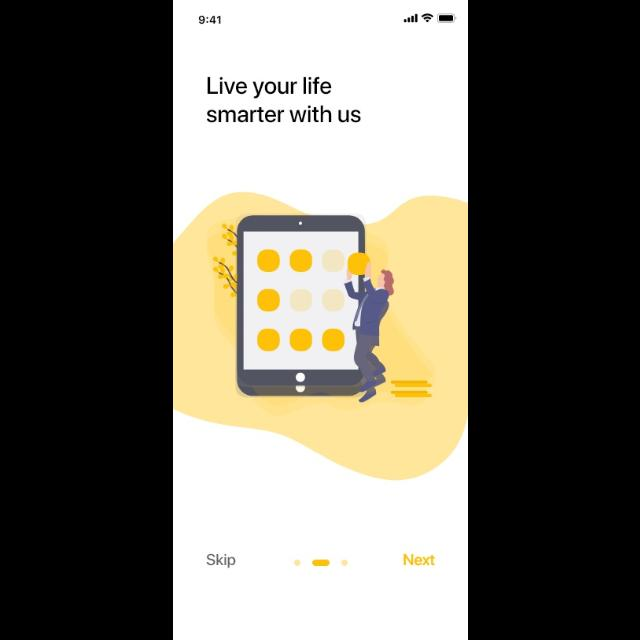image: (207, 214, 436, 412)
pageindicator: (293, 559, 349, 567)
text: (206, 76, 362, 124), (402, 554, 436, 566), (207, 554, 236, 568)
uppertaskbar: (198, 13, 457, 24)
